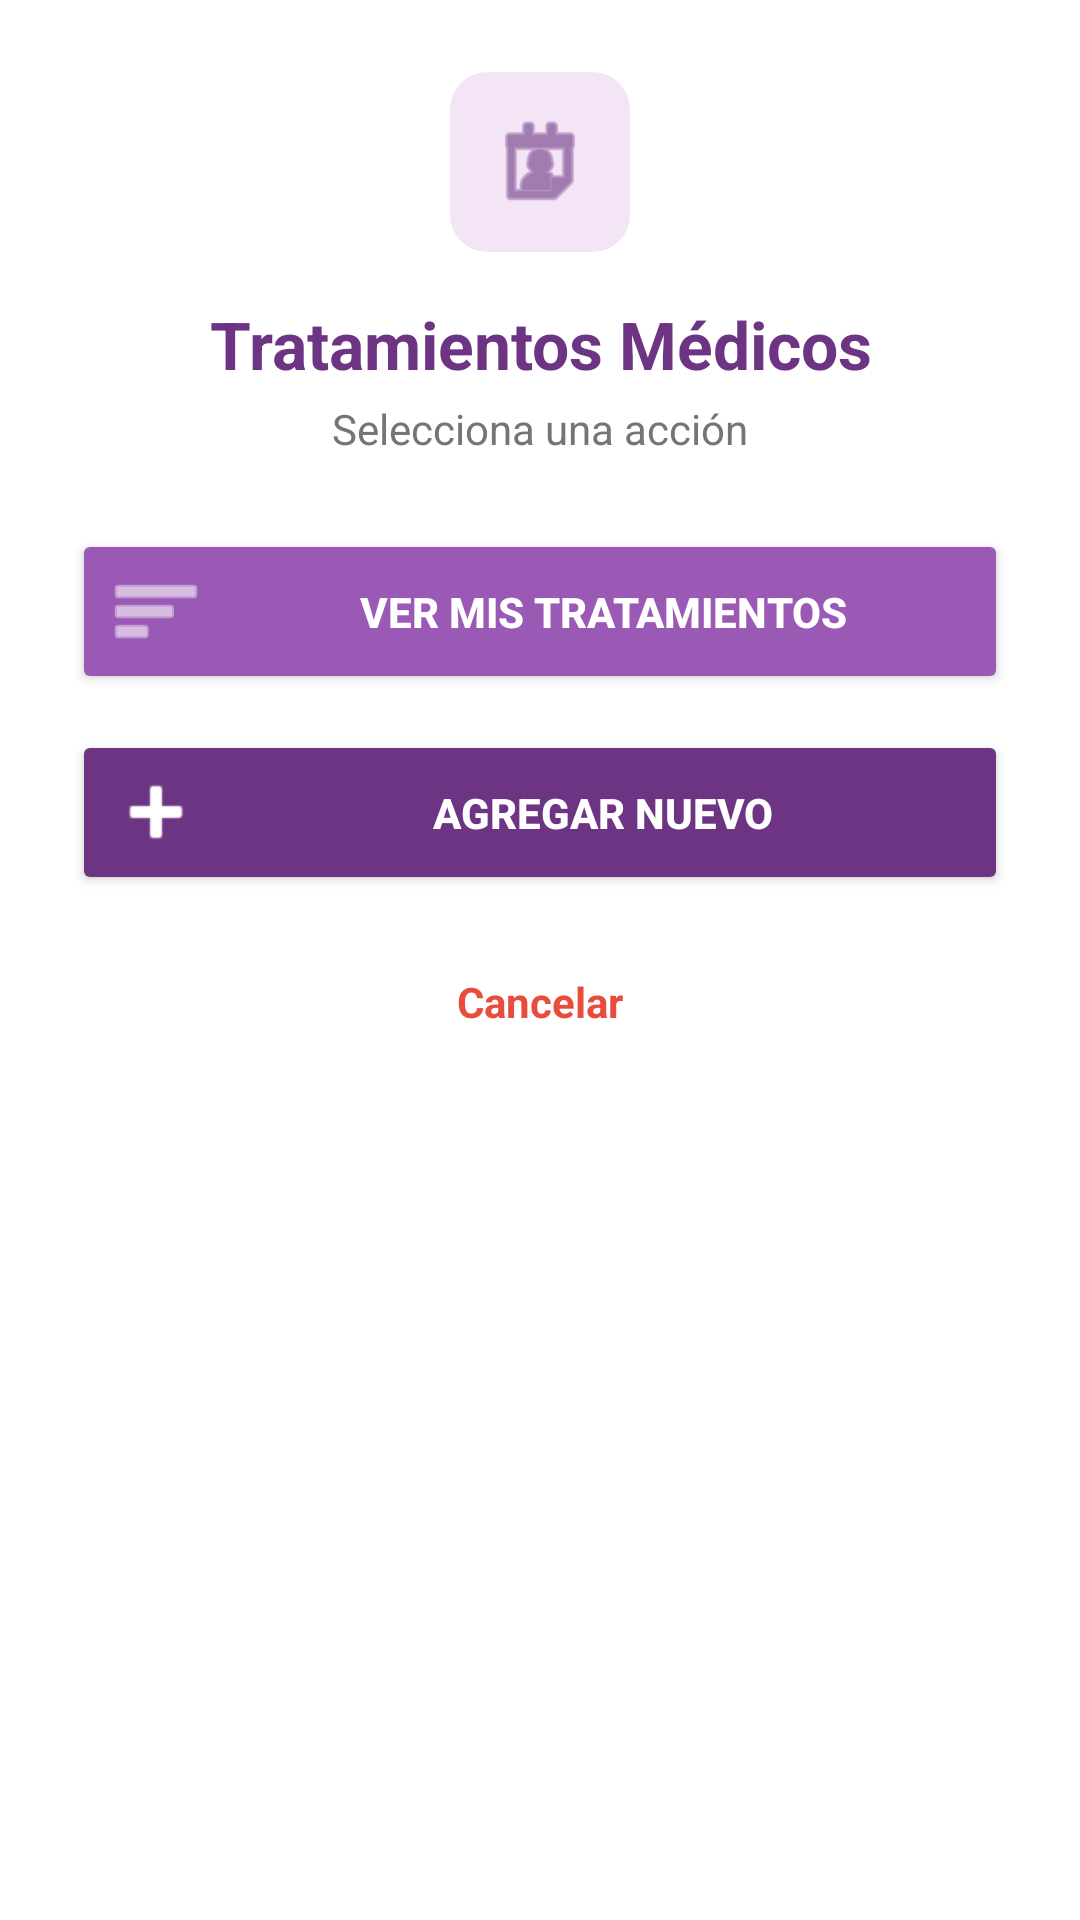

Where icons sit on this 1080×1920 app screen, as (x1,y1,x2,y2):
calendar: (450,72,630,252)
